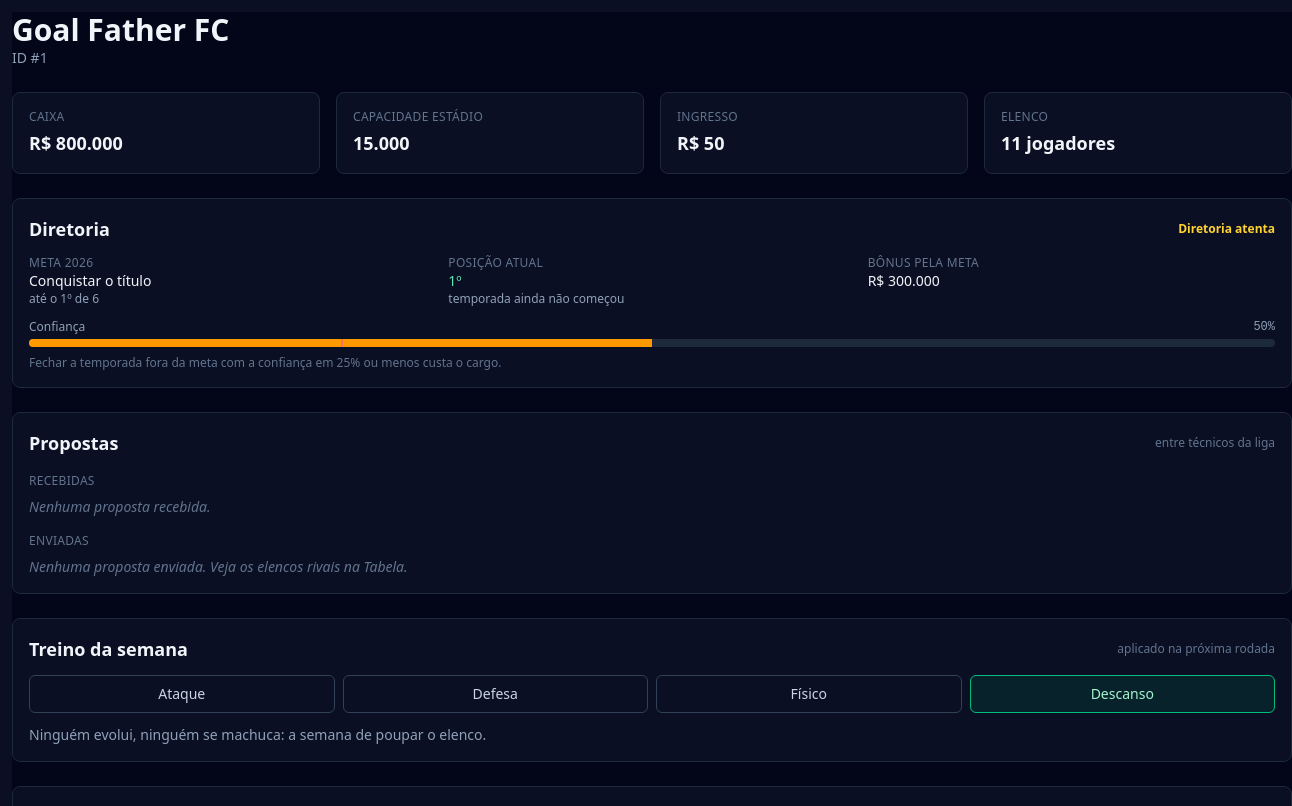
Scenario: DashboardPage › escolhe o foco de treino da semana (issue #58)
Click the button "Ataque": (182, 694) x1=29 y1=675 x2=334 y2=713
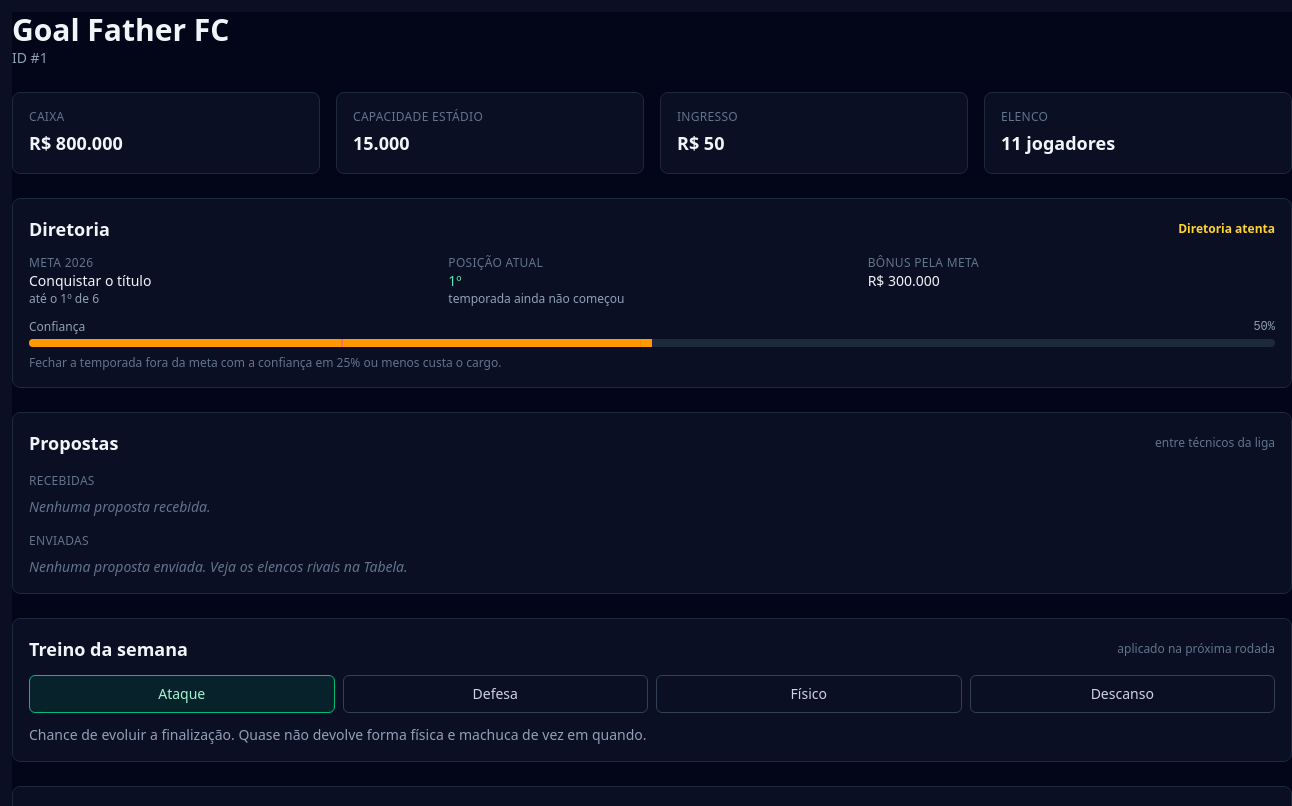
Expected: the text "evoluir a finalização" is shown, x1=29 y1=725 x2=647 y2=744
